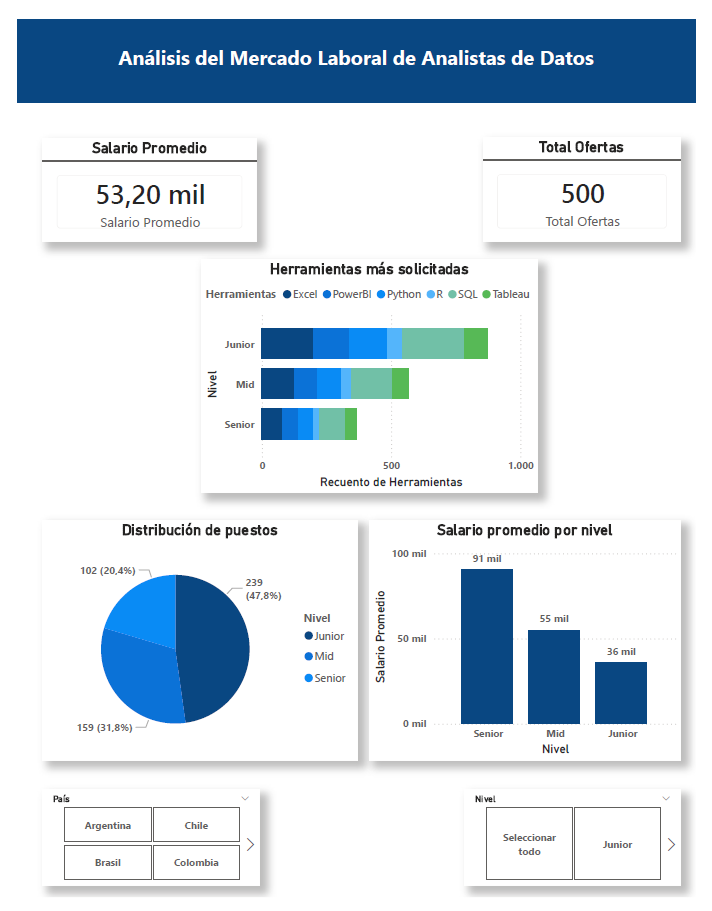

The dashboard page shown, as its layout file describes it:
{"tool":"powerbi","page":{"name":"DASHBOARD","canvas":[816,1056],"ordinal":1},"visuals":[{"type":"shape","box":[0,0,816,100.4],"z":0},{"type":"cardVisual","fields":{"Data":["analisis_mercado.Total Ofertas"]},"box":[983.2,33,203,111.3],"z":1000},{"type":"cardVisual","title":"Salario Promedio","fields":{"Data":["analisis_mercado.Salario Promedio"]},"box":[30.5,143.5,256.5,123.8],"z":2000},{"type":"barChart","title":"Herramientas más solicitadas","fields":{"Category":["analisis_mercado_tools.Nivel"],"Y":["CountNonNull(analisis_mercado_tools.Herramientas)"],"Series":["analisis_mercado_tools.Herramientas"]},"box":[220.6,288.8,405.3,279.8],"z":3000},{"type":"cardVisual","title":"Total Ofertas","fields":{"Data":["analisis_mercado.Total Ofertas"]},"box":[559.6,141.7,238.5,125.5],"z":4000},{"type":"pieChart","title":"Distribución de puestos","fields":{"Category":["analisis_mercado.Nivel"],"Y":["CountNonNull(analisis_mercado.ID)"]},"box":[30.5,602.6,378.4,288.8],"z":5000},{"type":"clusteredColumnChart","title":"Salario promedio por nivel","fields":{"Category":["analisis_mercado.Nivel"],"Y":["analisis_mercado.Salario Promedio"]},"box":[423.3,602.6,374.8,288.8],"z":6000},{"type":"slicer","fields":{"Values":["analisis_mercado.País"]},"box":[30.5,927.2,260.1,114.8],"z":7000},{"type":"slicer","fields":{"Values":["analisis_mercado.Nivel"]},"box":[538,927.2,260.1,114.8],"z":8000},{"type":"textbox","box":[109.4,23.3,595.4,53.8],"z":9000}]}

Visuals, with their boxes in screenshot pixels (x1, y1, x2, y2), scaled from the page's 816x1056 canvas onto the 712x911 screenshot:
shape: bbox=[0, 0, 711, 87]
"Salario Promedio" cardVisual: bbox=[27, 124, 250, 231]
"Herramientas más solicitadas" barChart: bbox=[192, 249, 546, 491]
"Total Ofertas" cardVisual: bbox=[488, 122, 696, 231]
"Distribución de puestos" pieChart: bbox=[27, 520, 357, 769]
"Salario promedio por nivel" clusteredColumnChart: bbox=[369, 520, 696, 769]
slicer - analisis_mercado.País: bbox=[27, 800, 254, 899]
slicer - analisis_mercado.Nivel: bbox=[469, 800, 696, 899]
textbox: bbox=[95, 20, 615, 67]
